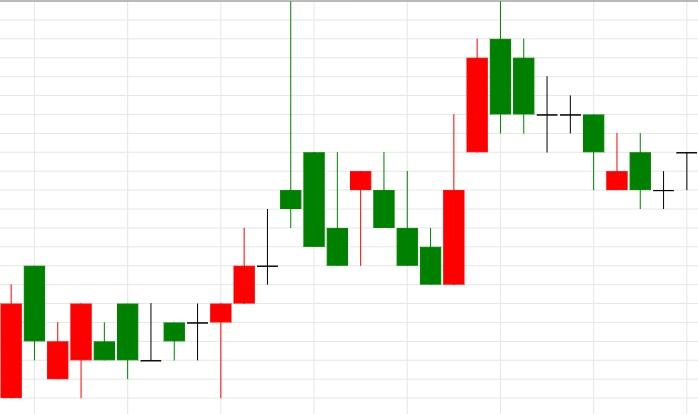bullish_engulfing_rise: (351, 113, 465, 285)
